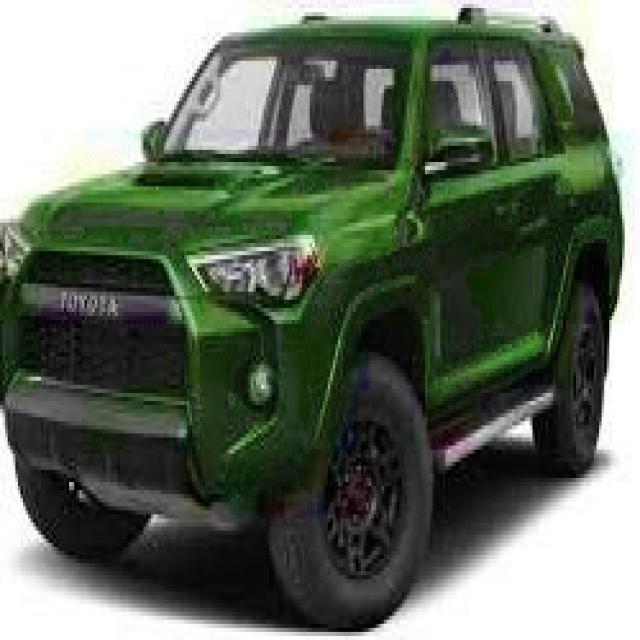green: (12, 16, 616, 616)
